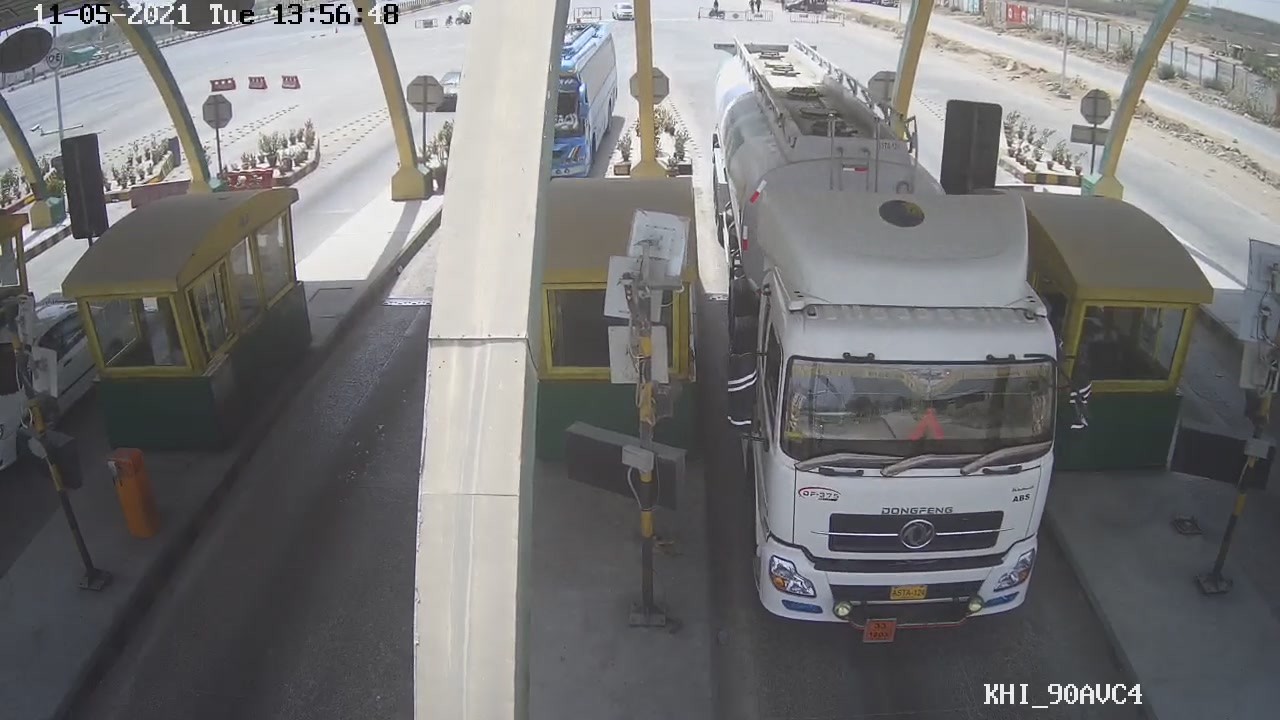F6: (704, 29, 1084, 648)
